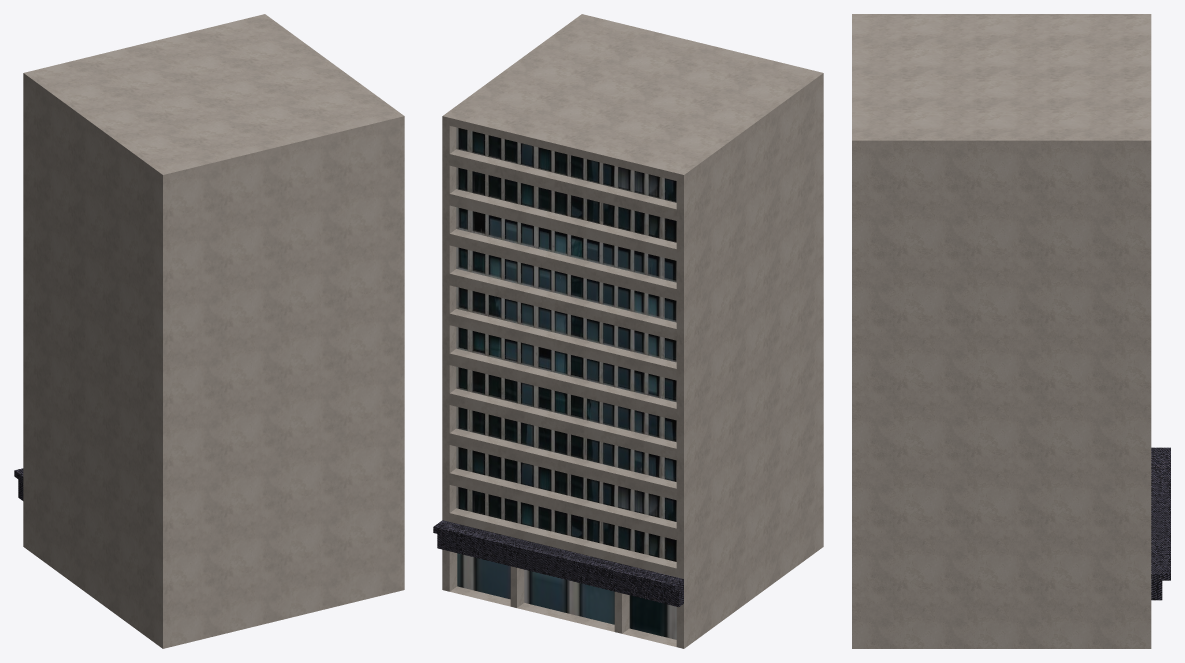
Rendered from low-poly_detailed_building.glb.
3 views of the same model, side by side, from view 1: azimuth 30°, elevation 25°; view 2: azimuth 150°, elevation 25°; view 3: azimuth 270°, elevation 25° (orthographic). The views are drawn at different scales.
Parts seen in each view (by area): view 1: Cube_0; view 2: Cube_0; view 3: Cube_0.
Boxes of the visible parts, box(x1,y1,x2,y2) form: Cube_0: box(14, 14, 404, 648); Cube_0: box(433, 14, 823, 648); Cube_0: box(852, 14, 1170, 648).
Size of the model in its own units: 7.73 by 14.49 by 8.23.
3 materials, 3 textured.
